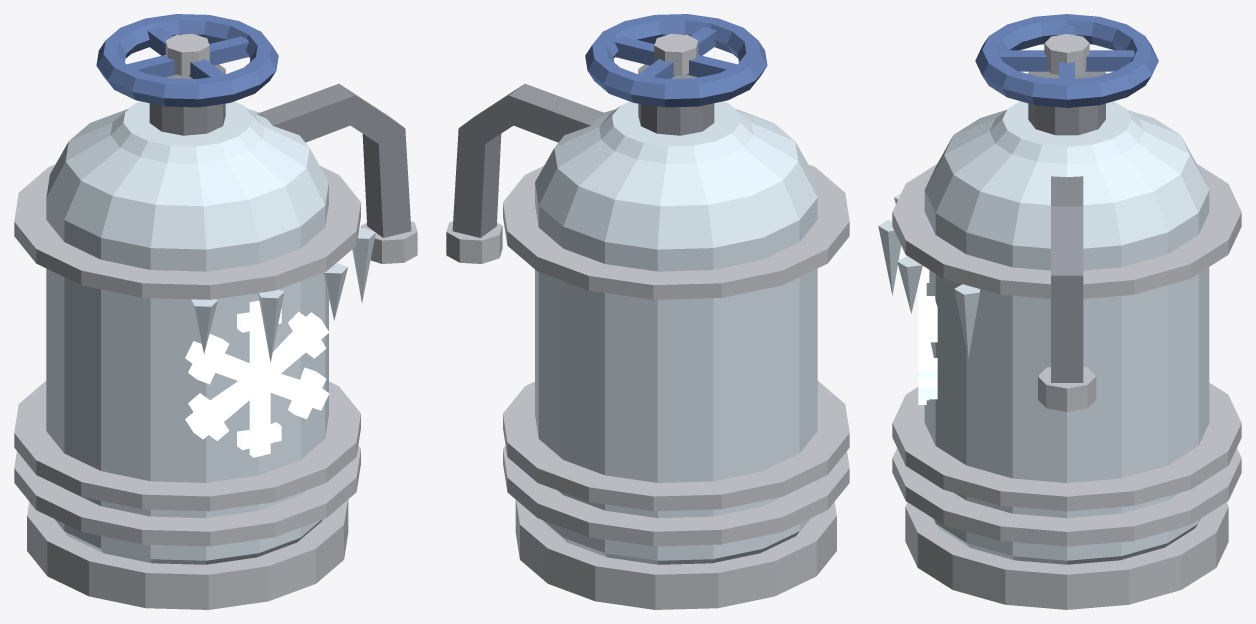
The model's file is item_coolant.glb.
The picture shows the model from 3 angles, left to right: view 1: azimuth 30°, elevation 25°; view 2: azimuth 150°, elevation 25°; view 3: azimuth 270°, elevation 25°; orthographic projection.
Visible parts, largest first — view 1: item_coolant; view 2: item_coolant; view 3: item_coolant.
Part boxes in pixels (x1,y1,x2,y2): item_coolant: (14,14,417,609); item_coolant: (446,14,849,609); item_coolant: (878,14,1241,609).
Bounding box in the file's own units: 0.675 × 0.85 × 0.5619.
